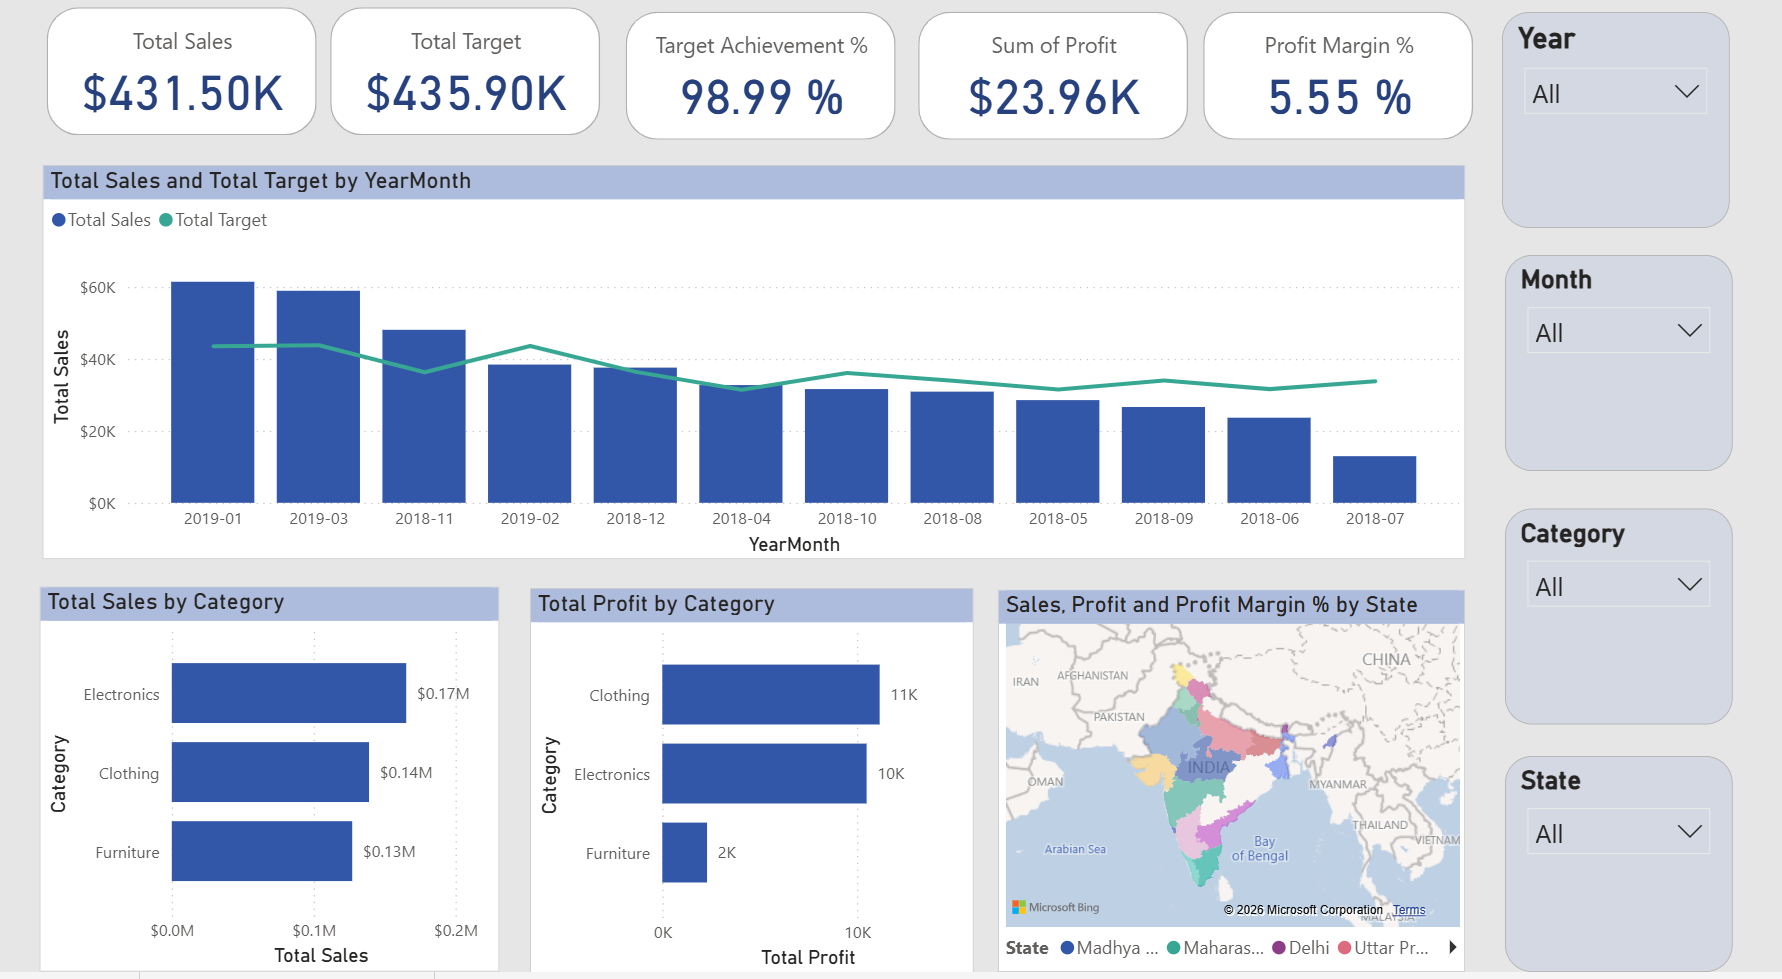

This screenshot's page, from the dashboard's own definition file:
{"tool":"powerbi","page":{"name":"Executive Overview","canvas":[1280,720],"ordinal":0},"visuals":[{"type":"cardVisual","fields":{"Data":["fact_sales.Total Sales"]},"box":[10.2,0,210,105],"z":0},{"type":"cardVisual","fields":{"Data":["fact_sales_target.Total Target"]},"box":[219.6,0,210,105],"z":1000},{"type":"cardVisual","fields":{"Data":["fact_sales_target.Target Achievement %"]},"box":[439.3,2.9,210,105],"z":2000},{"type":"cardVisual","fields":{"Data":["Sum(fact_sales.Profit)"]},"box":[656,2.9,210,105],"z":3000},{"type":"cardVisual","fields":{"Data":["fact_sales.Profit Margin %"]},"box":[866.1,3,210,105],"z":4000},{"type":"lineClusteredColumnComboChart","fields":{"Category":["dim_date.YearMonth"],"Y":["fact_sales.Total Sales"],"Y2":["fact_sales_target.Total Target"]},"box":[12.1,122.7,1053.9,292.2],"z":5000},{"type":"clusteredBarChart","fields":{"Y":["fact_sales.Total Sales"],"Category":["dim_category.Category"]},"box":[10.2,434.9,340.4,285.1],"z":6000},{"type":"clusteredBarChart","fields":{"Y":["fact_sales.Total Profit"],"Category":["dim_category.Category"]},"box":[373.3,435,328.3,285],"z":7000},{"type":"filledMap","title":"Sales, Profit and Profit Margin % by State","fields":{"Category":["dim_location.State"],"Series":["dim_location.State"]},"box":[720,436.4,346.2,283.6],"z":8000},{"type":"slicer","title":"Year","fields":{"Values":["dim_date.Year"]},"box":[1093.8,8.7,168.7,160],"z":9000},{"type":"slicer","title":"Month","fields":{"Values":["dim_date.MonthName"]},"box":[1095.3,189.1,168.7,160],"z":10000},{"type":"slicer","title":"Category","fields":{"Values":["dim_category.Category"]},"box":[1095.3,376.7,168.7,160],"z":12000},{"type":"slicer","title":"State","fields":{"Values":["dim_location.State"]},"box":[1095.3,560,168.7,160],"z":13000}]}

Visuals, with their boxes in screenshot pixels (x1, y1, x2, y2), scaled from the page's 1280x720 canvas onto the 1782x979 screenshot:
cardVisual - fact_sales.Total Sales: [x1=14, y1=0, x2=307, y2=143]
cardVisual - fact_sales_target.Total Target: [x1=306, y1=0, x2=598, y2=143]
cardVisual - fact_sales_target.Target Achievement %: [x1=612, y1=4, x2=904, y2=147]
cardVisual - Sum(fact_sales.Profit): [x1=913, y1=4, x2=1206, y2=147]
cardVisual - fact_sales.Profit Margin %: [x1=1206, y1=4, x2=1498, y2=147]
lineClusteredColumnComboChart - dim_date.YearMonth x fact_sales.Total Sales: [x1=17, y1=167, x2=1484, y2=564]
clusteredBarChart - fact_sales.Total Sales x dim_category.Category: [x1=14, y1=591, x2=488, y2=978]
clusteredBarChart - fact_sales.Total Profit x dim_category.Category: [x1=520, y1=591, x2=977, y2=978]
"Sales, Profit and Profit Margin % by State" filledMap: [x1=1002, y1=593, x2=1484, y2=978]
"Year" slicer: [x1=1523, y1=12, x2=1758, y2=229]
"Month" slicer: [x1=1525, y1=257, x2=1760, y2=475]
"Category" slicer: [x1=1525, y1=512, x2=1760, y2=730]
"State" slicer: [x1=1525, y1=761, x2=1760, y2=978]
